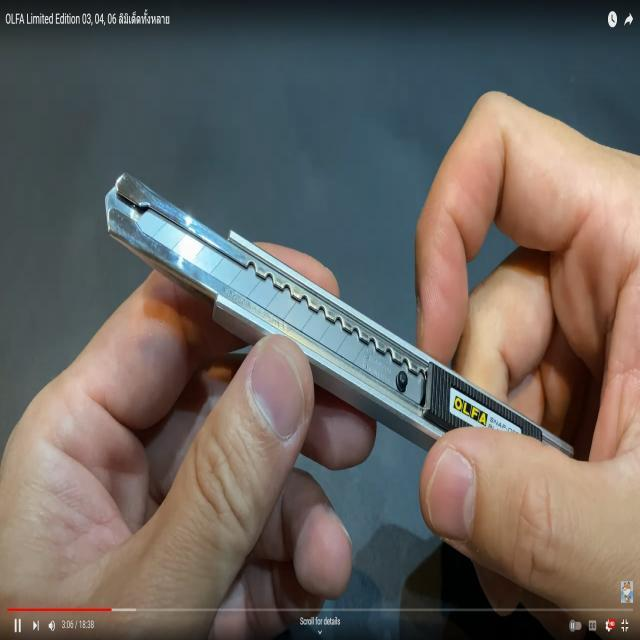cutter: (0, 49, 640, 640)
